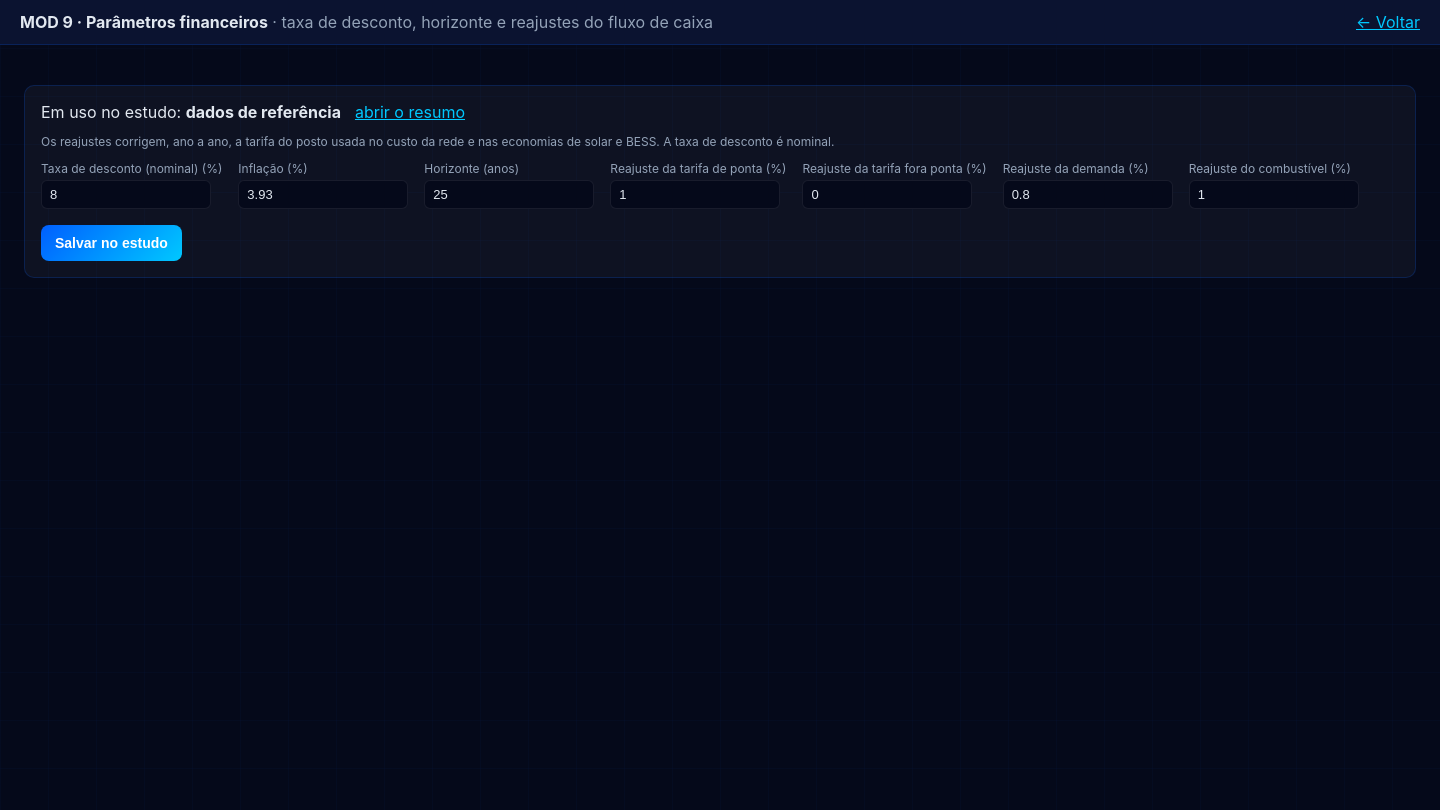
Test case: InvestimentoPage › pré-preenche com a referência, valida no servidor e salva no estudo
expect the text "dados de referência" is shown: met, box [186,102,341,122]
Replace the text in the field labelled "Taxa de desconto (nominal) (%)" with "12": {"x": 126, "y": 194} [41,180,211,209]
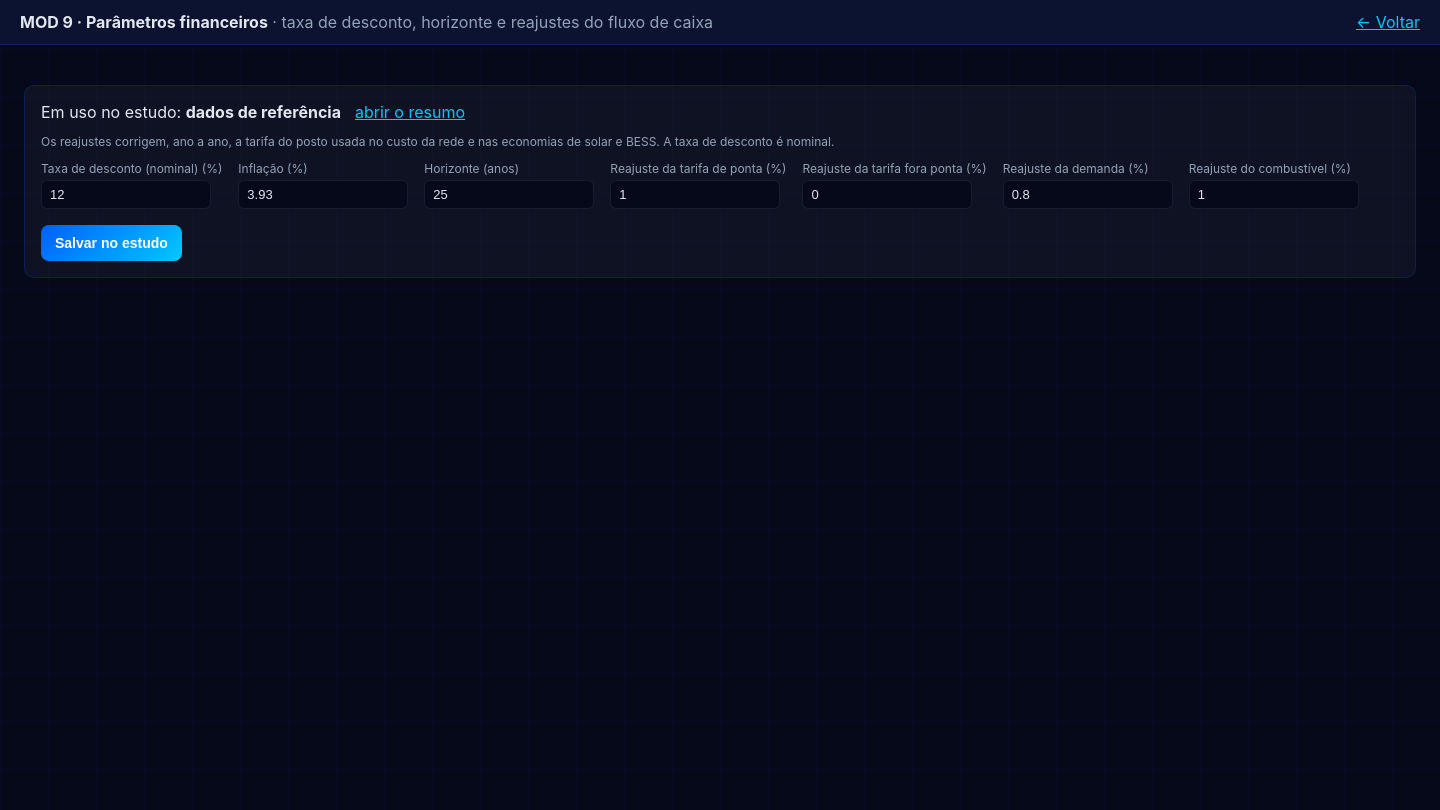
Click the button "Salvar no estudo": {"x": 111, "y": 243} [41,225,182,261]
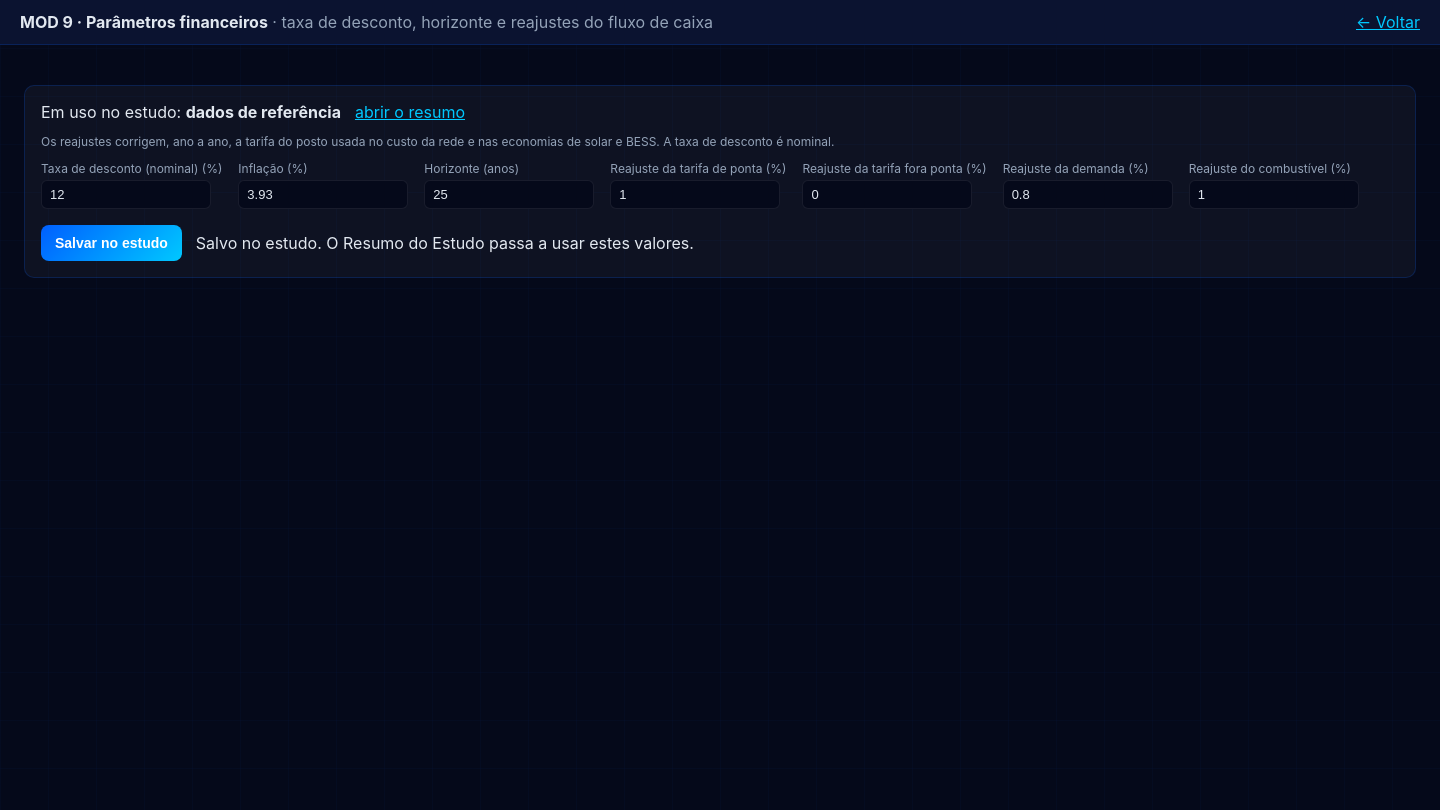
expect the text "Salvo no estudo" is shown: met, box [196,233,694,253]
